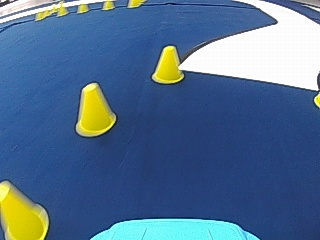cone: (0, 183, 48, 239), (74, 81, 117, 137), (151, 44, 184, 84)
